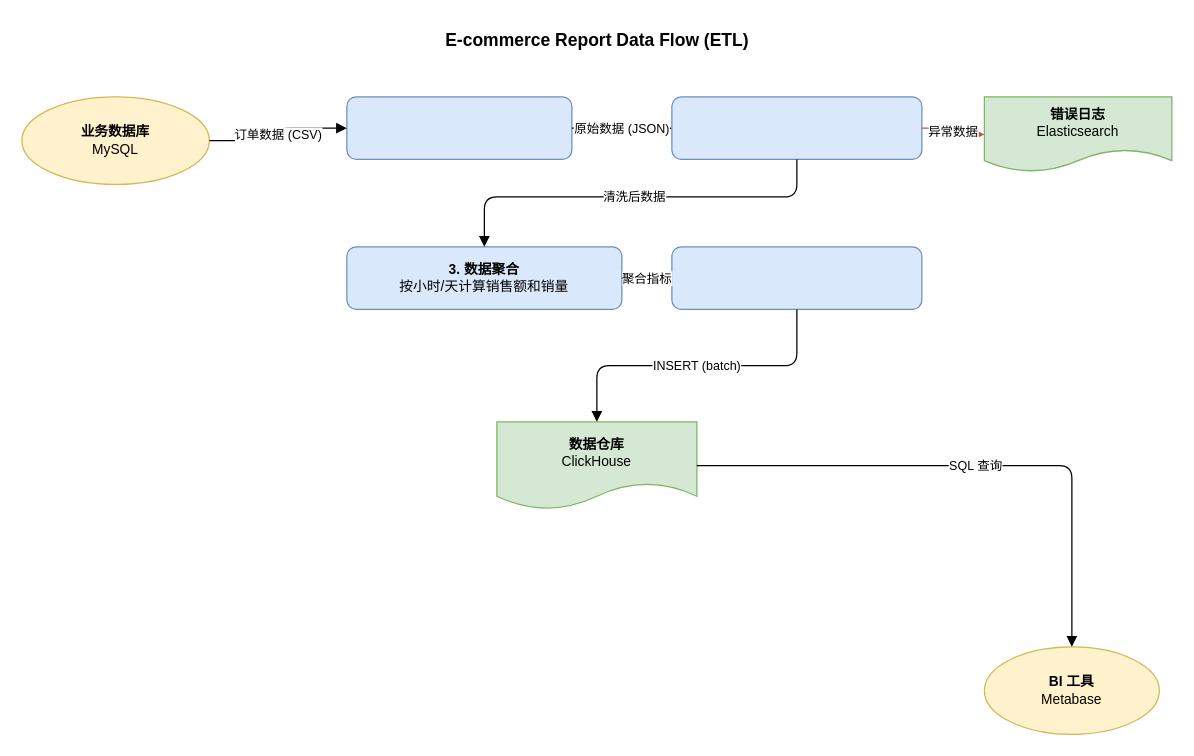
Some shapes in this 1194 by 756 pixel diagram are drawn without their labels. Here are the shapes that lost their labels. From the top down, the box of each, then its label:
(346, 96, 572, 159): 1. 数据抽取 读取昨日订单数据
(671, 96, 922, 159): 2. 数据清洗 去重、填充空值、格式转换
(671, 246, 922, 309): 4. 数据加载 写入 ClickHouse 数据仓库
